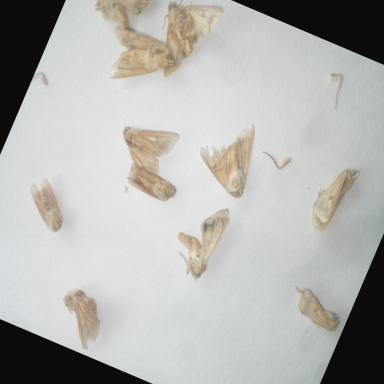abw: (183, 106, 272, 204), (135, 0, 228, 93), (92, 17, 185, 107), (160, 192, 236, 288), (99, 105, 185, 189), (298, 155, 366, 246), (44, 280, 116, 356), (12, 170, 79, 240), (280, 278, 350, 338), (116, 156, 185, 214), (83, 0, 170, 43)
